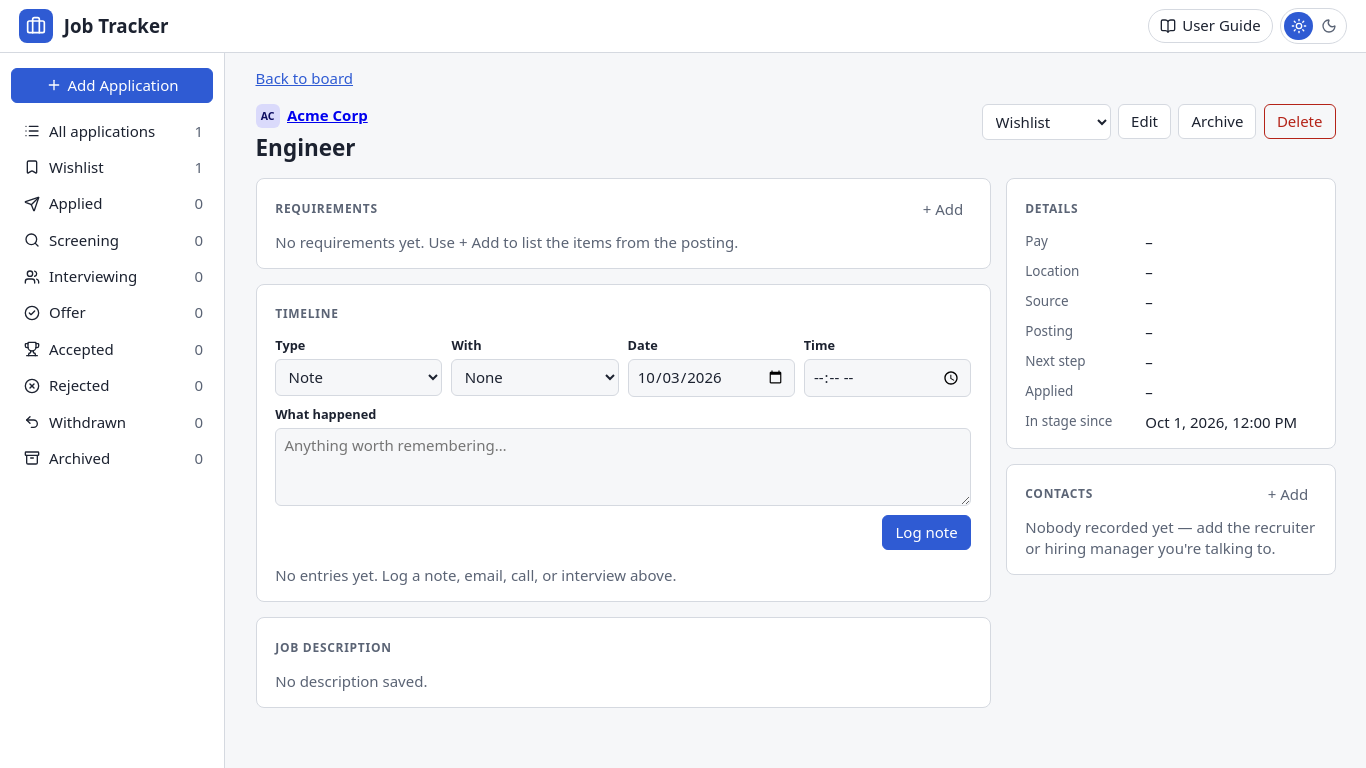
Test: the Website field in the application form (spec 017, AC-7) › starts with the company's website when editing, and is empty with none
Click the button "Edit": (1145, 122) [1118, 104, 1171, 139]
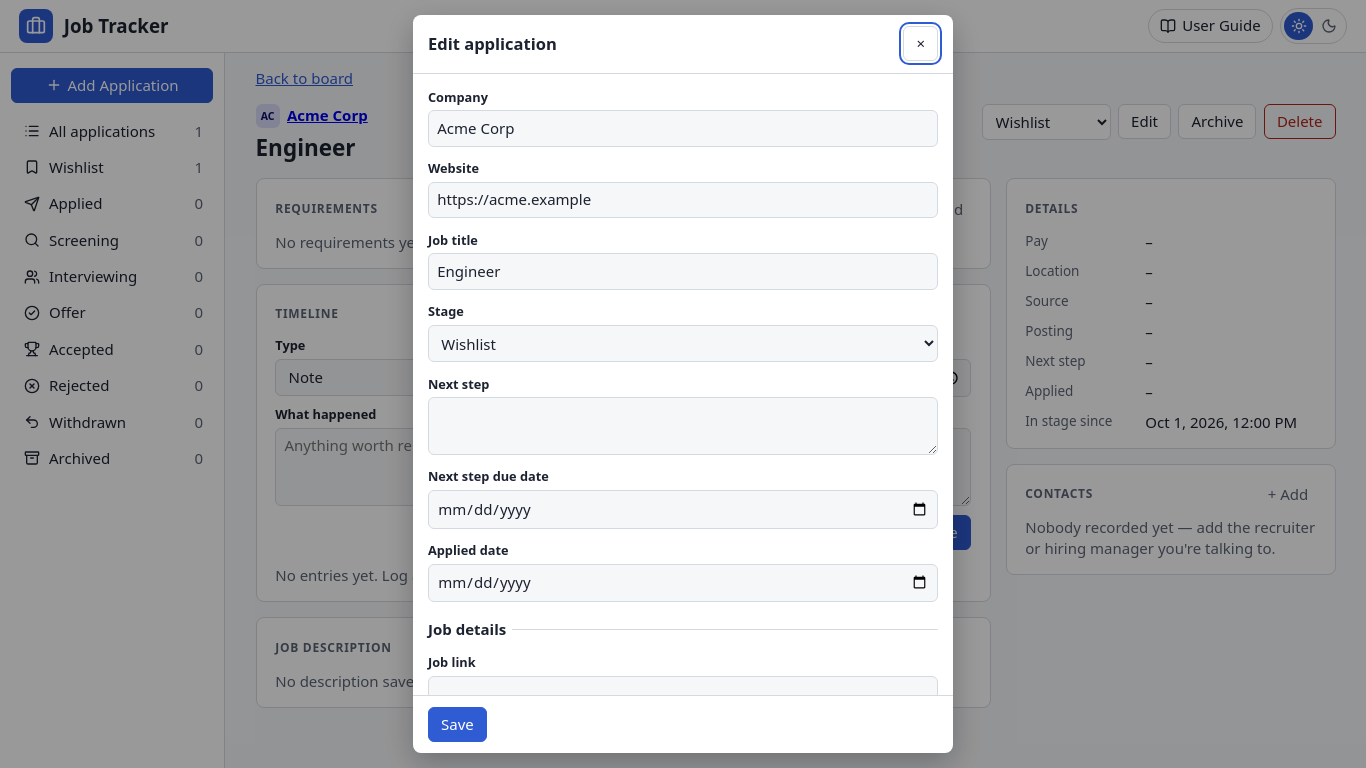
Expected: the field labelled "Website" holds "https://acme.example", [428, 182, 938, 218]
